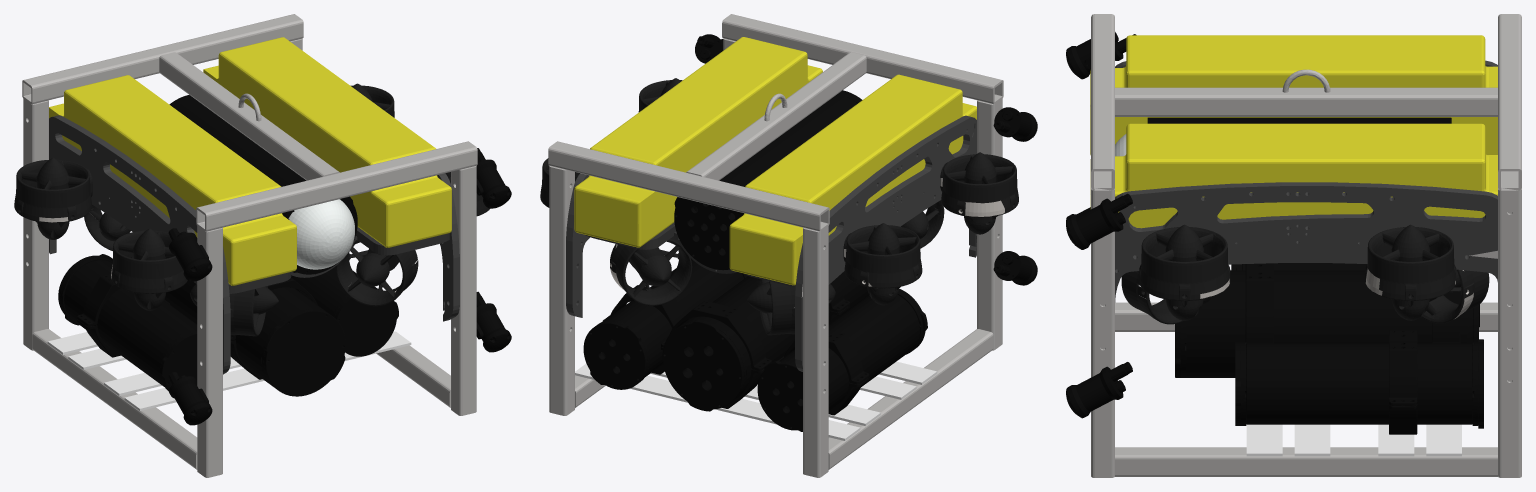
File: BruceAssembly_colored.dae
3 renders of one model, left to right at view 1: azimuth 30°, elevation 25°; view 2: azimuth 150°, elevation 25°; view 3: azimuth 270°, elevation 25°, orthographic. The views are drawn at different scales.
Visible parts, largest first — view 1: bruce_color_06_node, bruce_color_07_node, bruce_color_08_node, bruce_color_00_node, bruce_color_03_node, bruce_color_09_node, bruce_color_10_node, bruce_color_05_node; view 2: bruce_color_06_node, bruce_color_08_node, bruce_color_07_node, bruce_color_00_node, bruce_color_03_node, bruce_color_09_node, bruce_color_05_node, bruce_color_01_node; view 3: bruce_color_07_node, bruce_color_08_node, bruce_color_06_node, bruce_color_03_node, bruce_color_00_node, bruce_color_09_node, bruce_color_01_node.
Boxes of the visible parts, box(x1,y1,x2,y2) form: bruce_color_06_node: box(22, 14, 477, 477); bruce_color_07_node: box(49, 37, 451, 285); bruce_color_08_node: box(58, 95, 511, 425); bruce_color_00_node: box(14, 83, 489, 336); bruce_color_03_node: box(49, 115, 459, 374); bruce_color_09_node: box(47, 331, 411, 410); bruce_color_10_node: box(288, 199, 354, 269); bruce_color_05_node: box(228, 227, 449, 293); bruce_color_06_node: box(548, 14, 1003, 477); bruce_color_08_node: box(583, 34, 1037, 431); bruce_color_07_node: box(574, 37, 976, 285); bruce_color_00_node: box(540, 78, 1018, 335); bruce_color_03_node: box(566, 115, 976, 371); bruce_color_09_node: box(575, 361, 937, 440); bruce_color_05_node: box(585, 222, 795, 287); bruce_color_01_node: box(610, 178, 1004, 289); bruce_color_07_node: box(1090, 35, 1497, 228); bruce_color_08_node: box(1066, 32, 1483, 434); bruce_color_06_node: box(1091, 14, 1521, 477); bruce_color_03_node: box(1115, 60, 1497, 302); bruce_color_00_node: box(1121, 224, 1489, 324); bruce_color_09_node: box(1246, 424, 1461, 456); bruce_color_01_node: box(1200, 268, 1473, 318).
Bounding box in the file's own units: 18.01 × 13.1 × 16.36.
